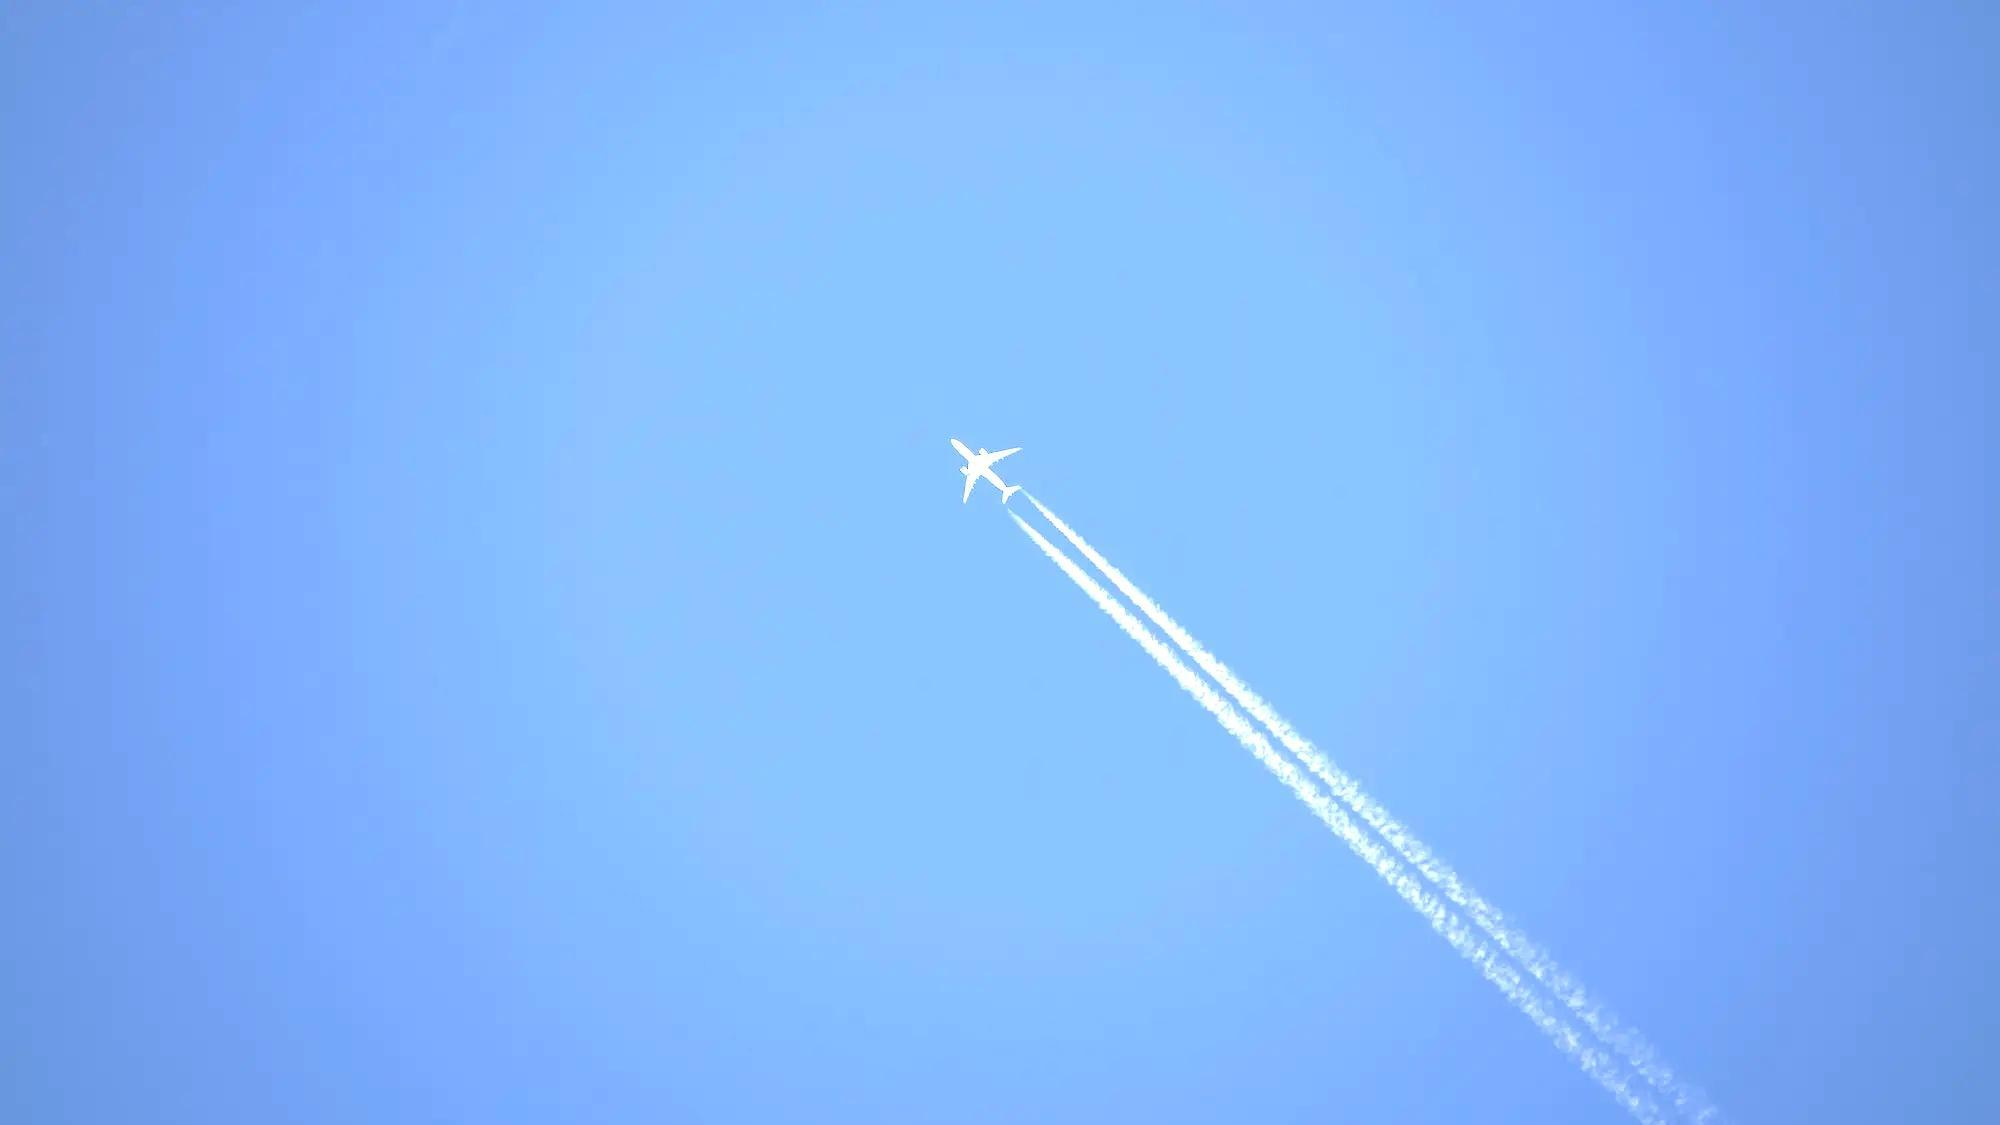Plane: (867, 404, 1434, 974)
